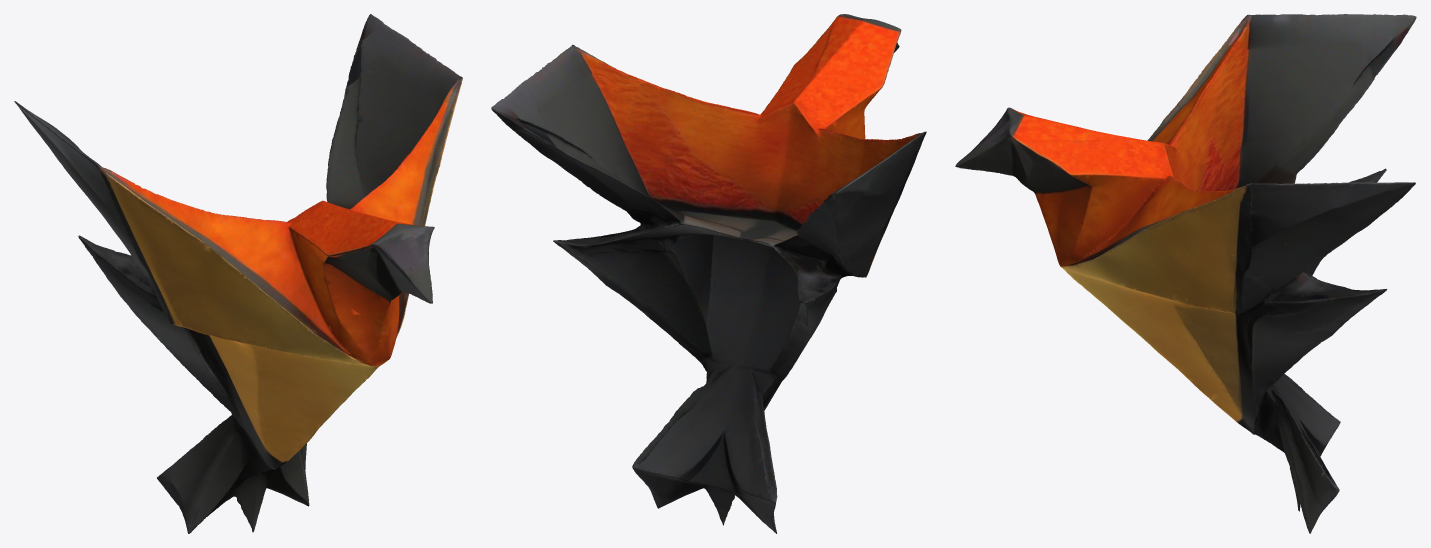
File: weaverbird.glb
The picture shows the model from 3 angles, left to right: view 1: azimuth 30°, elevation 25°; view 2: azimuth 150°, elevation 25°; view 3: azimuth 270°, elevation 25°; orthographic projection. The views are drawn at different scales.
Bounding box in the file's own units: 1.75 × 1.98 × 2.
Materials: 1 (1 with a texture image).
